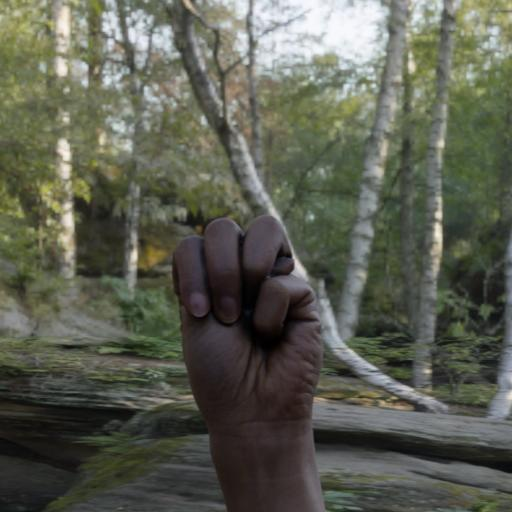M: (168, 213, 326, 427)
